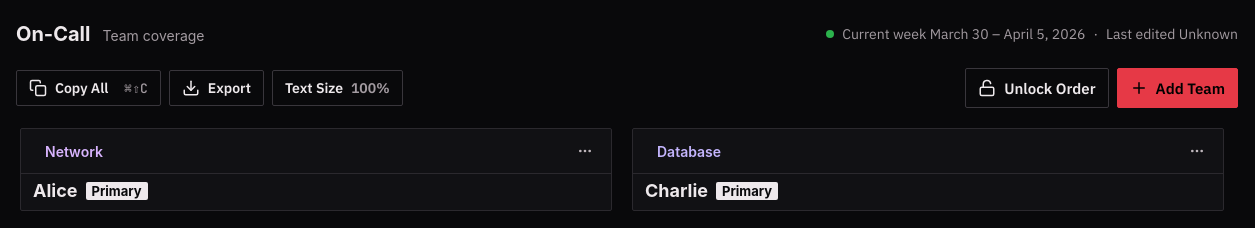
Test: PersonnelTab — board lock button › shows correct tooltip for locked state
Hover over the button "Unlock Order" at (1037, 88), box [965,68,1109,108]
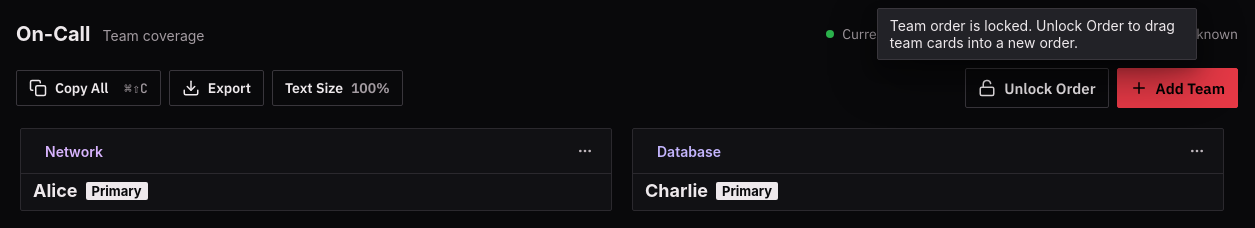
Result: the tooltip with class "tooltip-popup" shows "Unlock Order" at [890,17,1179,51]
